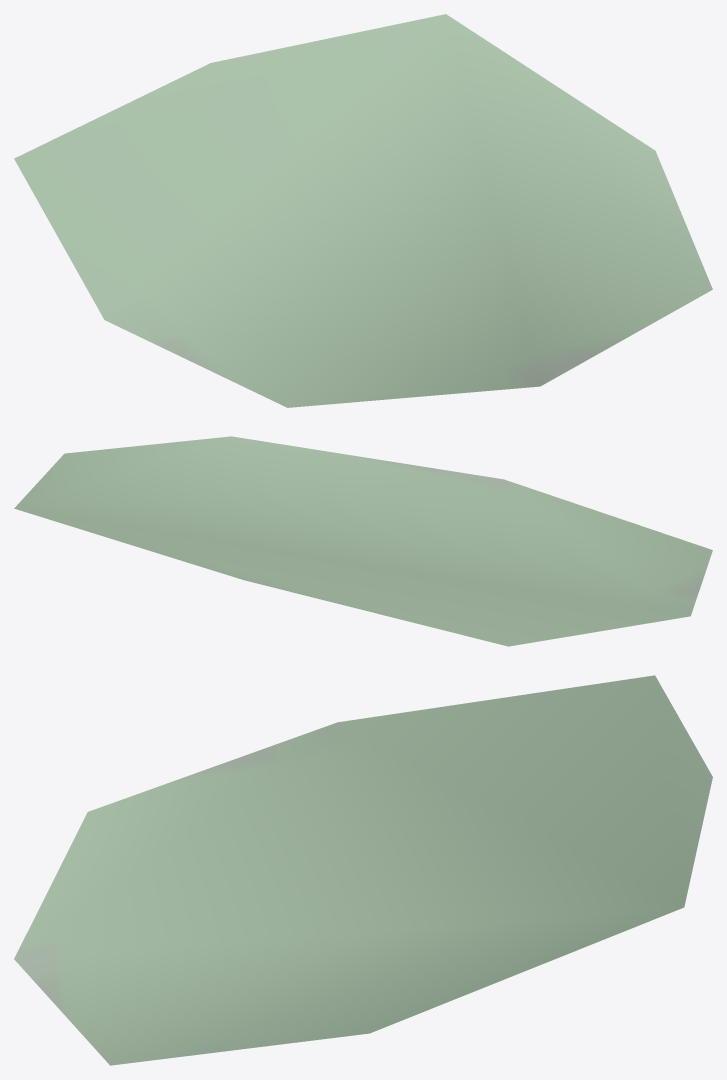
The model's file is TROLLHOLE02_HOLECAP96.fbx.
3 renders of one model, top to bottom at view 1: azimuth 30°, elevation 25°; view 2: azimuth 150°, elevation 25°; view 3: azimuth 270°, elevation 25°, orthographic. The views are drawn at different scales.
Visible parts, largest first — view 1: TROLLHOLE02_HOLECAP96; view 2: TROLLHOLE02_HOLECAP96; view 3: TROLLHOLE02_HOLECAP96.
Boxes of the visible parts, box(x1,y1,x2,y2) form: TROLLHOLE02_HOLECAP96: box(14, 14, 712, 407); TROLLHOLE02_HOLECAP96: box(14, 436, 712, 646); TROLLHOLE02_HOLECAP96: box(14, 675, 712, 1065).
Bounding box in the file's own units: 19849 × 4344 × 17337.
Materials: 1 (1 with a texture image).
